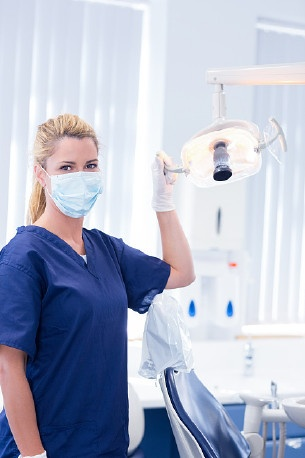Mask: (42, 155, 99, 212)
